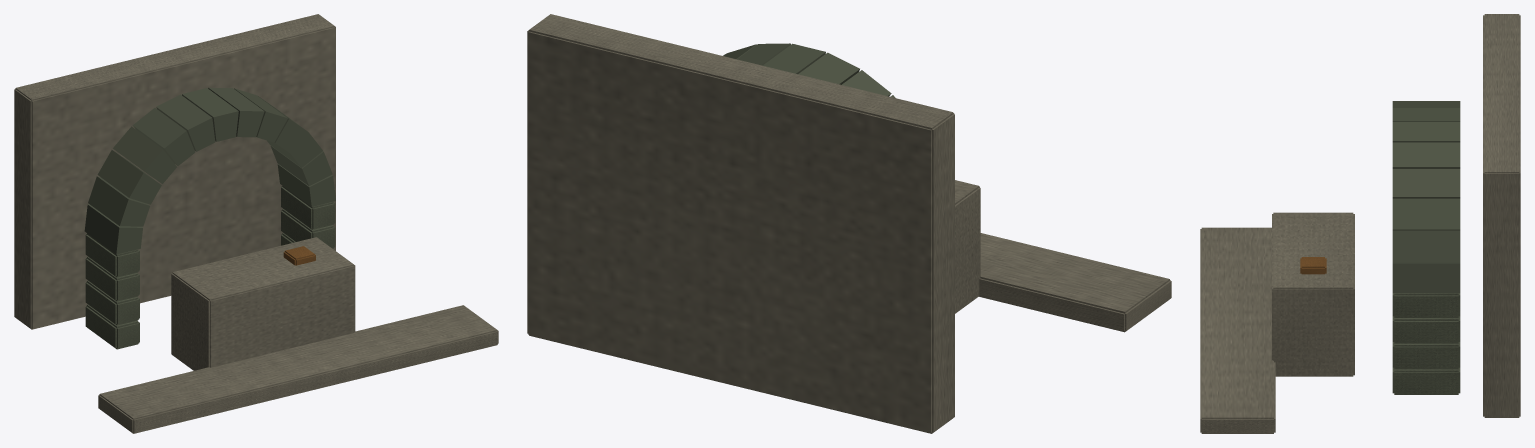
File: temple-v1.glb
The picture shows the model from 3 angles, left to right: view 1: azimuth 30°, elevation 25°; view 2: azimuth 150°, elevation 25°; view 3: azimuth 270°, elevation 25°; orthographic projection. The views are drawn at different scales.
Visible parts, largest first — view 1: Shrine back wall, Masonry arch 0 pier, Shrine step, Altar; view 2: Shrine back wall, Shrine step, Masonry arch 0 pier, Altar; view 3: Masonry arch 0 pier, Shrine back wall, Shrine step, Altar, Offering bowl.
Boxes of the visible parts, x1,y1,x2,y2 form: Shrine back wall: (14, 14, 335, 329); Masonry arch 0 pier: (84, 87, 335, 349); Shrine step: (98, 305, 498, 433); Altar: (171, 237, 355, 370); Shrine back wall: (527, 14, 954, 433); Shrine step: (979, 233, 1171, 332); Masonry arch 0 pier: (723, 43, 955, 234); Altar: (955, 180, 980, 313); Masonry arch 0 pier: (1392, 101, 1460, 394); Shrine back wall: (1483, 14, 1520, 417); Shrine step: (1200, 227, 1275, 433); Altar: (1272, 212, 1354, 376); Offering bowl: (1300, 257, 1326, 274).
Size of what is drawn, in the model's own units: 6 by 3.6 by 4.25.
5 materials, 5 textured.
